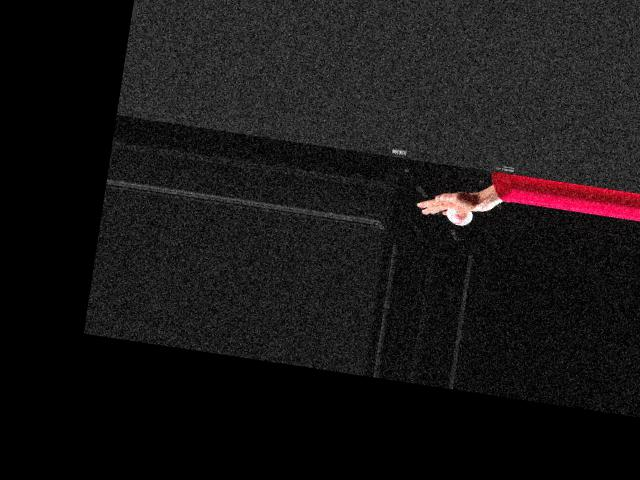egg: (446, 206, 474, 227)
